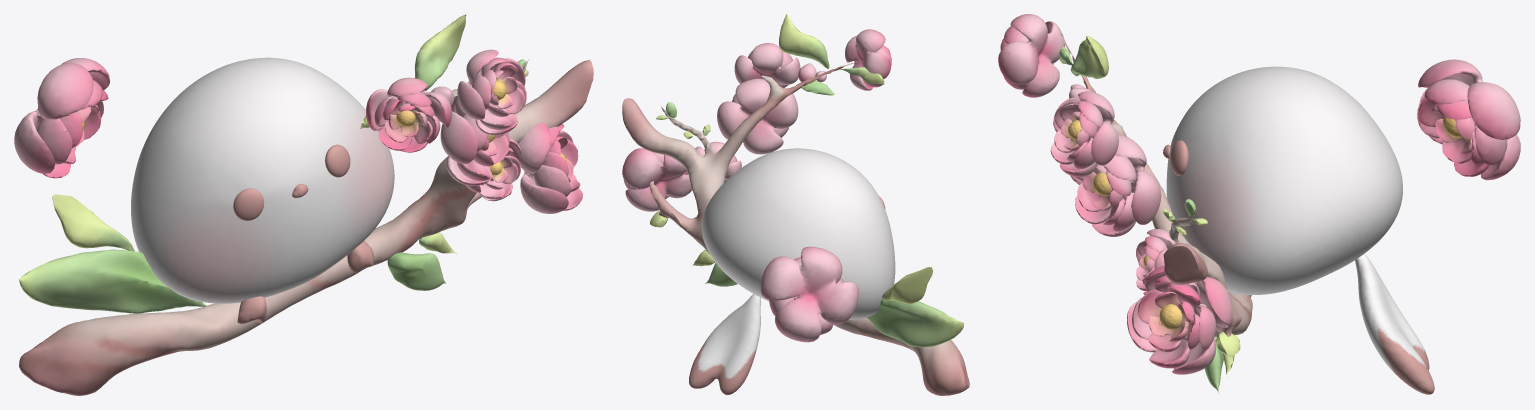
File: white_bird.glb
3 renders of one model, left to right at view 1: azimuth 30°, elevation 25°; view 2: azimuth 150°, elevation 25°; view 3: azimuth 270°, elevation 25°, orthographic. The views are drawn at different scales.
Parts seen in each view (by area): view 1: Object_36, Object_56, Object_54, Object_19, Object_17, Object_21, Object_28, Object_26, Object_44, Object_46, Object_15, Object_34 (+4 smaller); view 2: Object_36, Object_56, Object_19, Object_30, Object_28, Object_54, Object_21, Object_26, Object_17, Object_46, Object_44, Object_23 (+2 smaller); view 3: Object_36, Object_19, Object_21, Object_28, Object_30, Object_17, Object_56, Object_26, Object_23, Object_46, Object_25, Object_34 (+2 smaller).
Boxes of the visible parts, box(x1,y1,x2,y2) form: Object_36: box(131, 57, 394, 303); Object_56: box(19, 59, 593, 395); Object_54: box(19, 249, 206, 313); Object_19: box(14, 58, 109, 178); Object_17: box(366, 77, 451, 152); Object_21: box(518, 123, 582, 213); Object_28: box(440, 100, 509, 185); Object_26: box(457, 49, 526, 135); Object_44: box(52, 194, 134, 251); Object_46: box(414, 14, 466, 90); Object_15: box(387, 252, 445, 290); Object_34: box(233, 144, 350, 220); Object_36: box(702, 148, 895, 319); Object_56: box(622, 58, 969, 395); Object_19: box(760, 246, 858, 342); Object_30: box(689, 294, 760, 394); Object_28: box(717, 78, 798, 154); Object_54: box(866, 299, 963, 347); Object_21: box(622, 148, 691, 211); Object_26: box(734, 43, 800, 87); Object_17: box(845, 29, 891, 90); Object_46: box(779, 14, 829, 68); Object_44: box(882, 267, 932, 303); Object_23: box(695, 141, 741, 182); Object_36: box(1166, 66, 1402, 294); Object_19: box(1417, 59, 1520, 180); Object_21: box(1127, 265, 1232, 374); Object_28: box(1070, 134, 1161, 236); Object_30: box(1355, 254, 1434, 394); Object_17: box(998, 14, 1064, 97); Object_56: box(1060, 32, 1252, 336); Object_26: box(1050, 91, 1118, 177); Object_23: box(1136, 229, 1175, 294); Object_46: box(1070, 35, 1108, 78); Object_25: box(1054, 101, 1097, 146); Object_34: box(1170, 140, 1188, 175).
Bounding box in the file's own units: 4.29 × 2.96 × 3.68.
